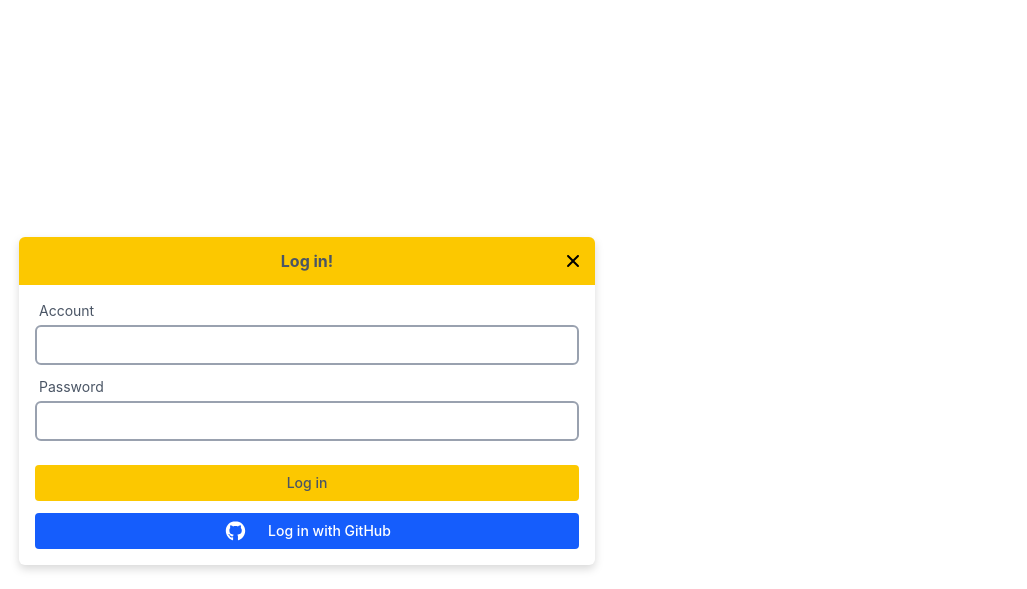
Scenario: AppHeader/LoginPopup component › login success
Type "FAKE_ACCOUNT" into the field labelled "Account" at point(307, 345), box [35,325,579,365]
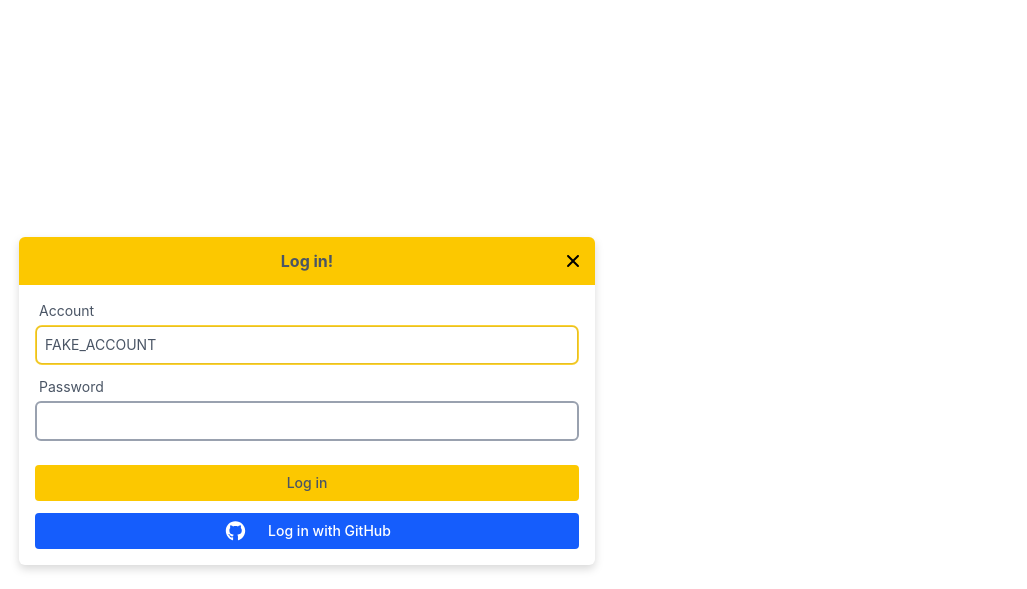
Type "FAKE_PASSWORD" into the password field labelled "Password" at point(307, 421), box [35,401,579,441]
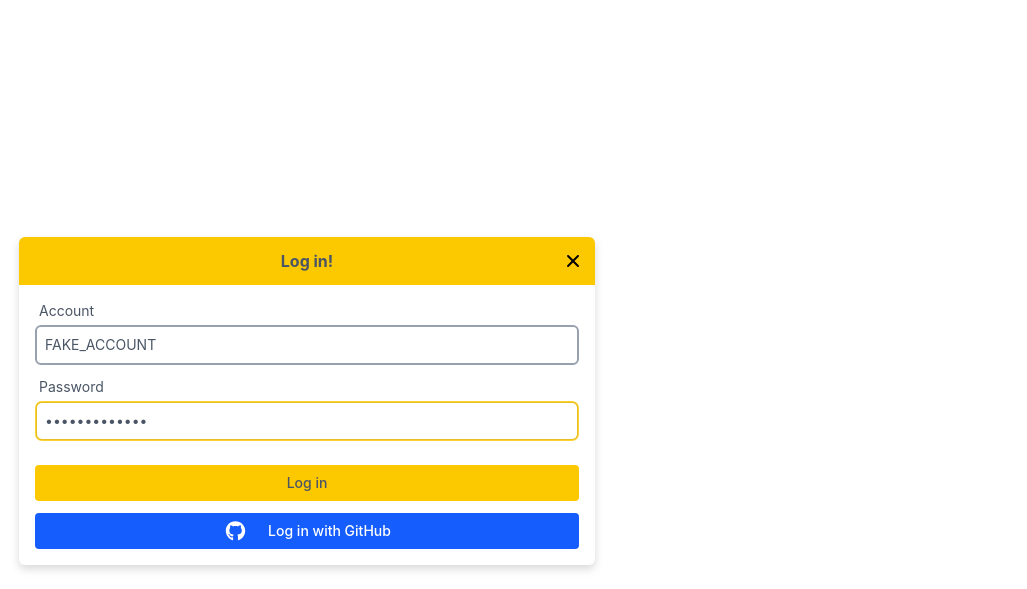
Click the button "Log in" at point(307, 483), box [35,465,579,501]
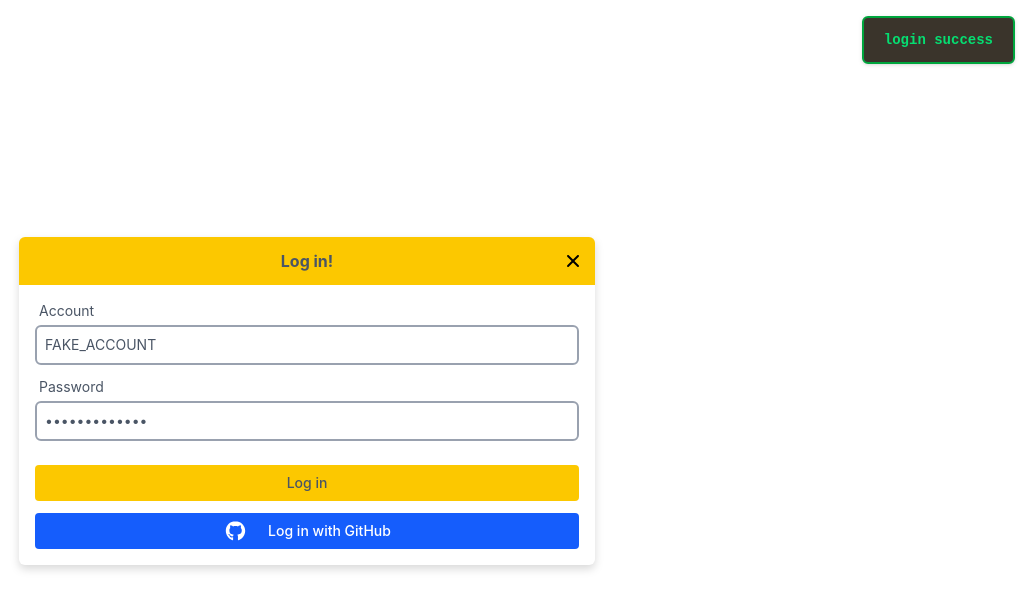
Expected: the text "login success" is shown, [884,30,993,50]
